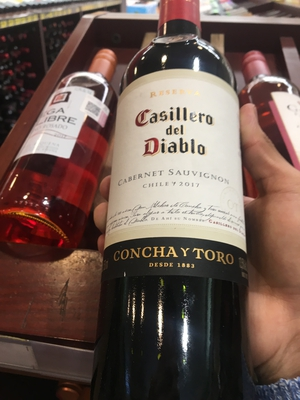casillero del diablo cabernet sauvignon: (99, 5, 251, 400)
